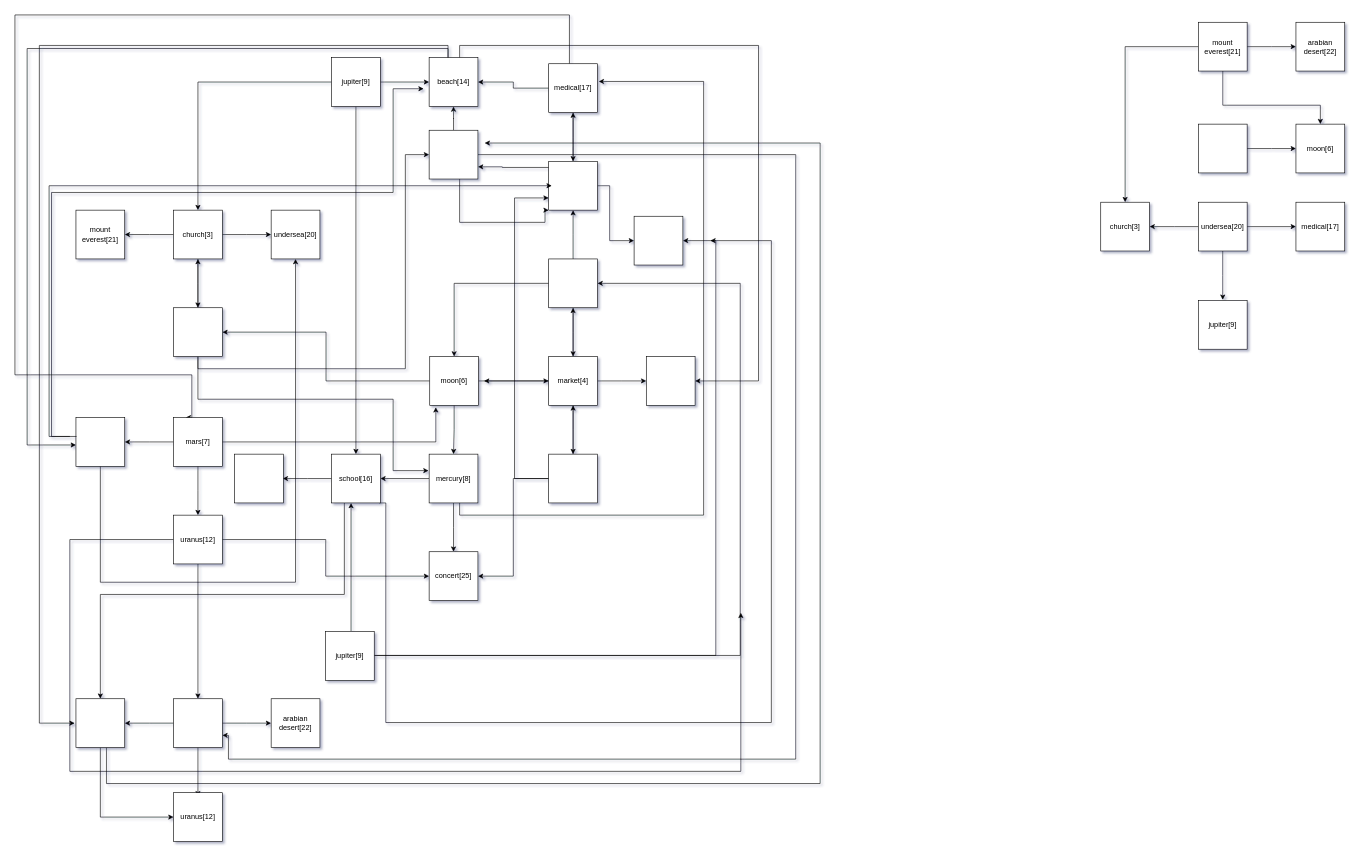
The diagram is 1359 pixels wide and 856 high, and some of its shapes have lost their labels. The centre of each missing label's shape, as x and y in pixels:
alien residence[24]: (658,240)
antarctica[23]: (670,380)
casino[5]: (572,283)
disco[15]: (572,478)
disnery land[19]: (1222,148)
disneyland[19]: (100,723)
home[1]: (572,185)
marvel studio[18]: (453,154)
neptune[11]: (100,441)
office[2]: (197,723)
saturn[10]: (258,478)
venus[13]: (197,332)
